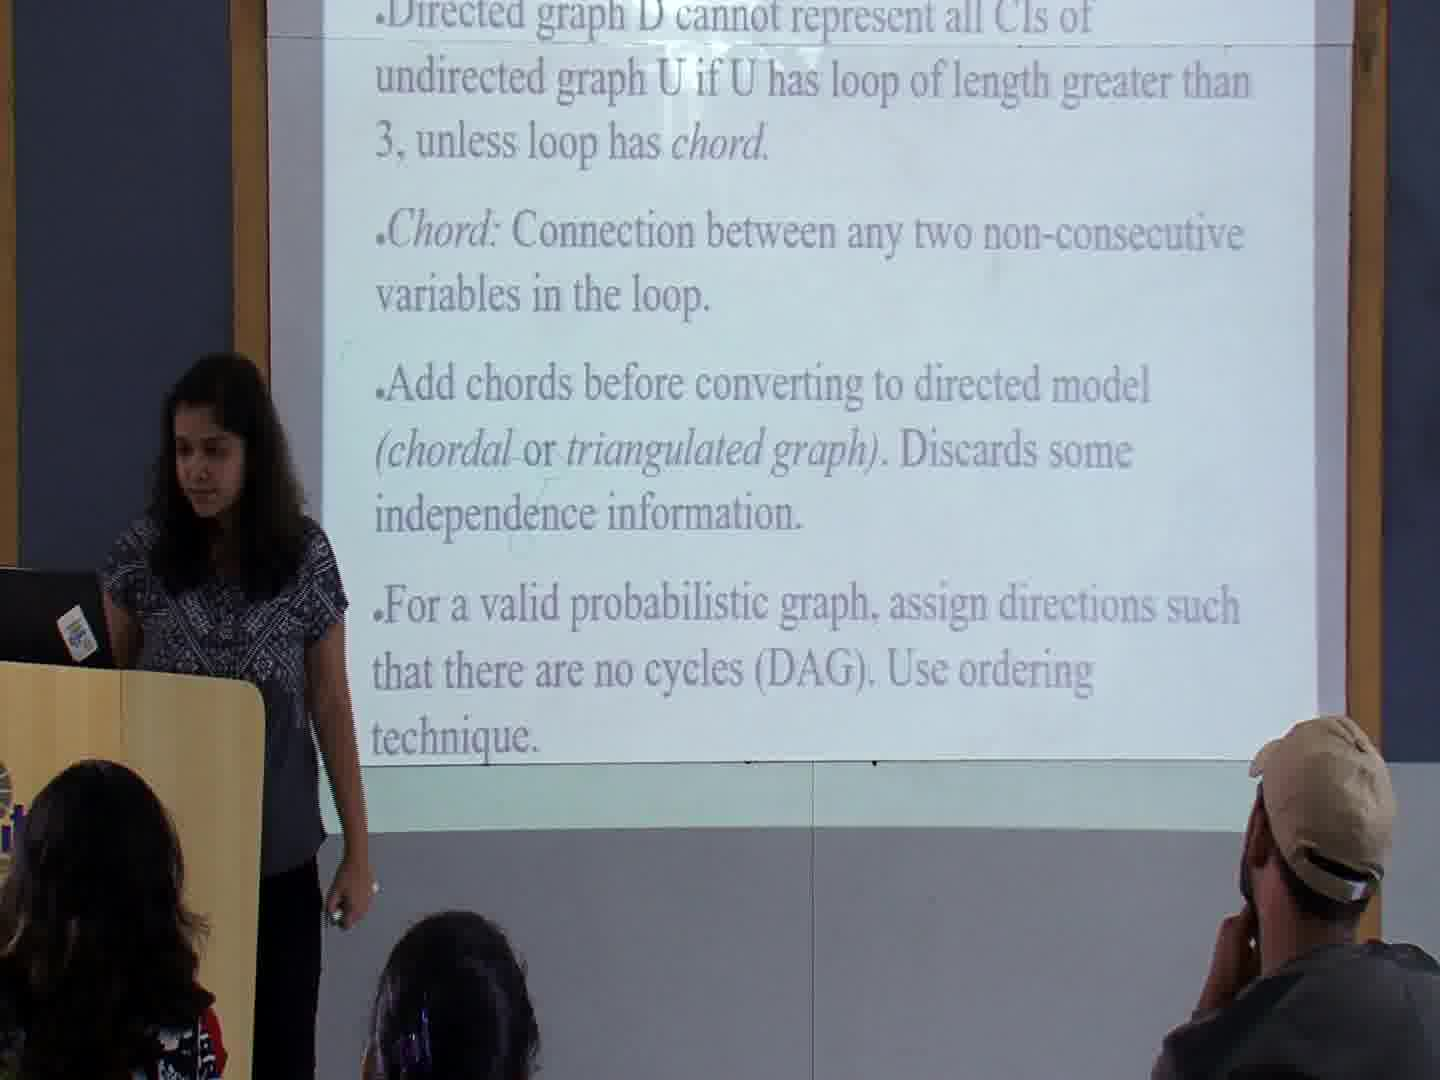slide: (322, 1, 1318, 838)
